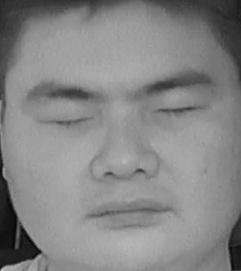blink: (43, 104, 98, 140), (152, 93, 201, 126)
mouth: (87, 188, 172, 234)
